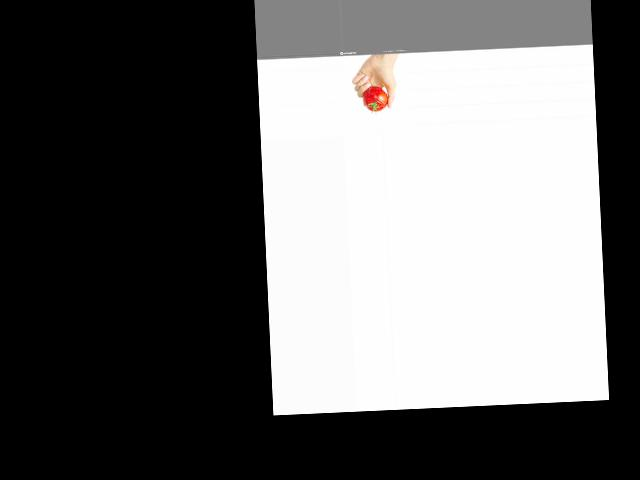tomato: (363, 85, 388, 112)
